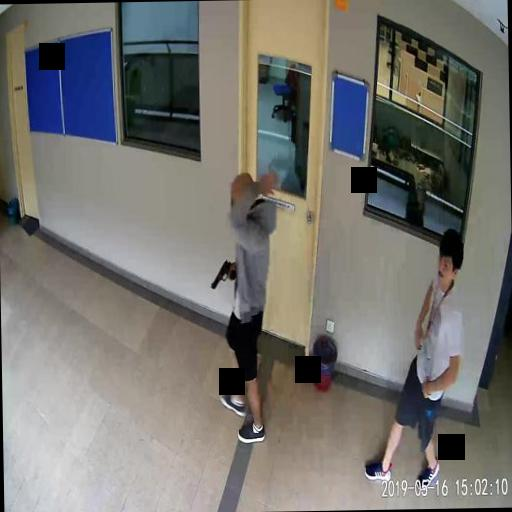Handgun: (208, 258, 234, 288)
